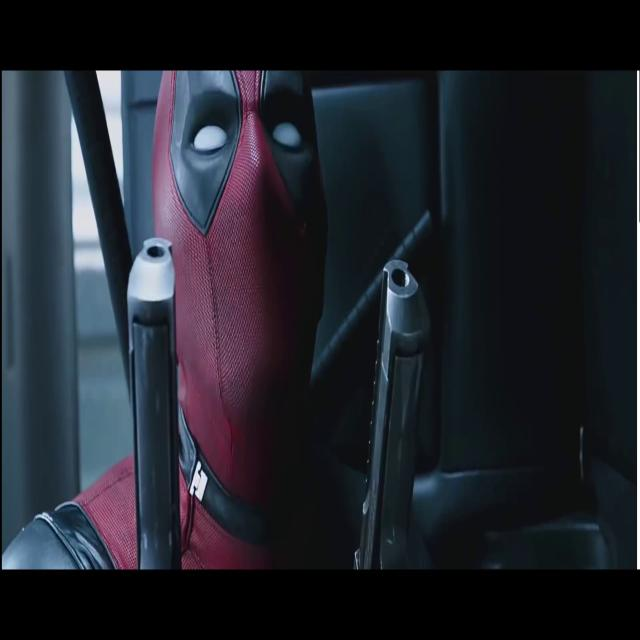weapons: (345, 235, 444, 566), (114, 206, 204, 570)
